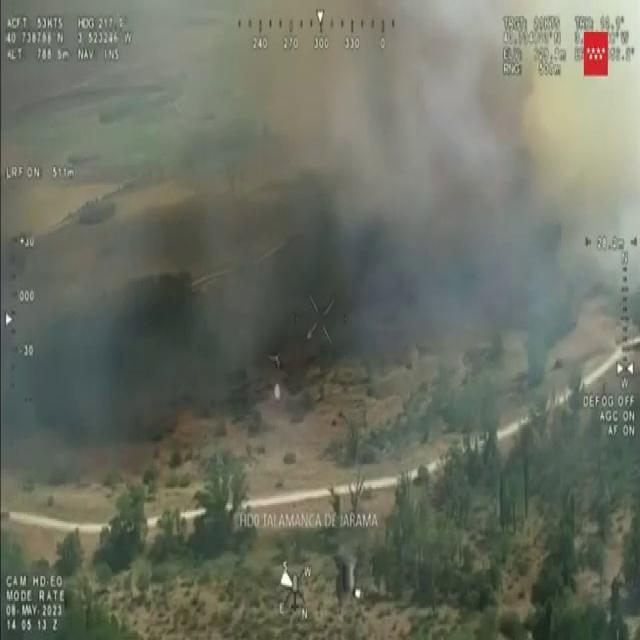Smoke: (35, 2, 634, 480)
